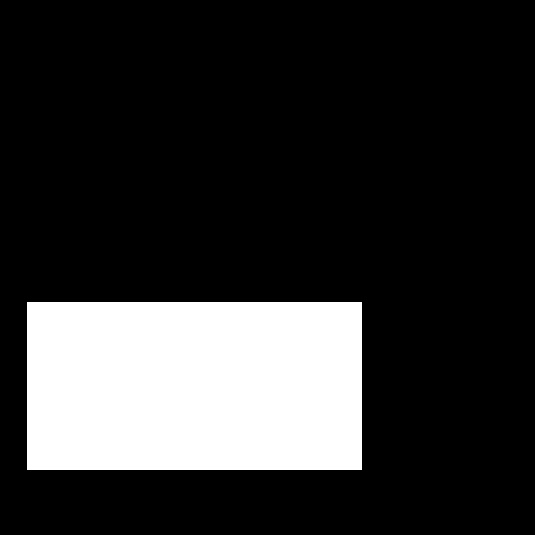table: (27, 302, 361, 469)
